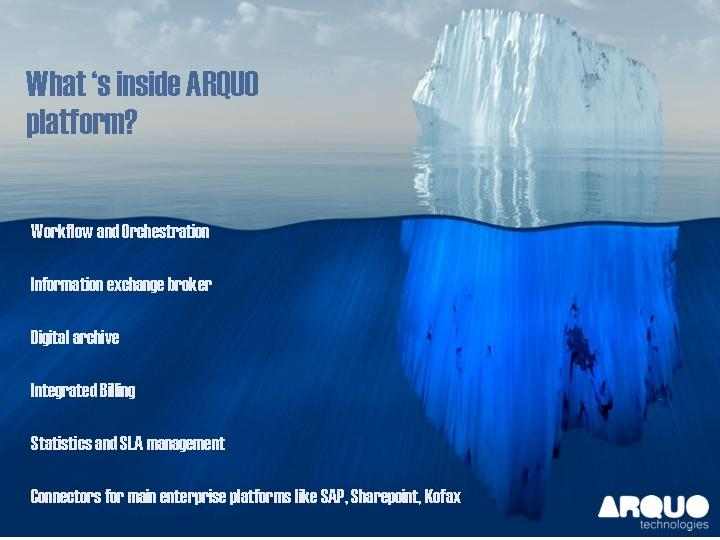paragraph: (25, 210, 480, 532)
title: (18, 54, 278, 154)
